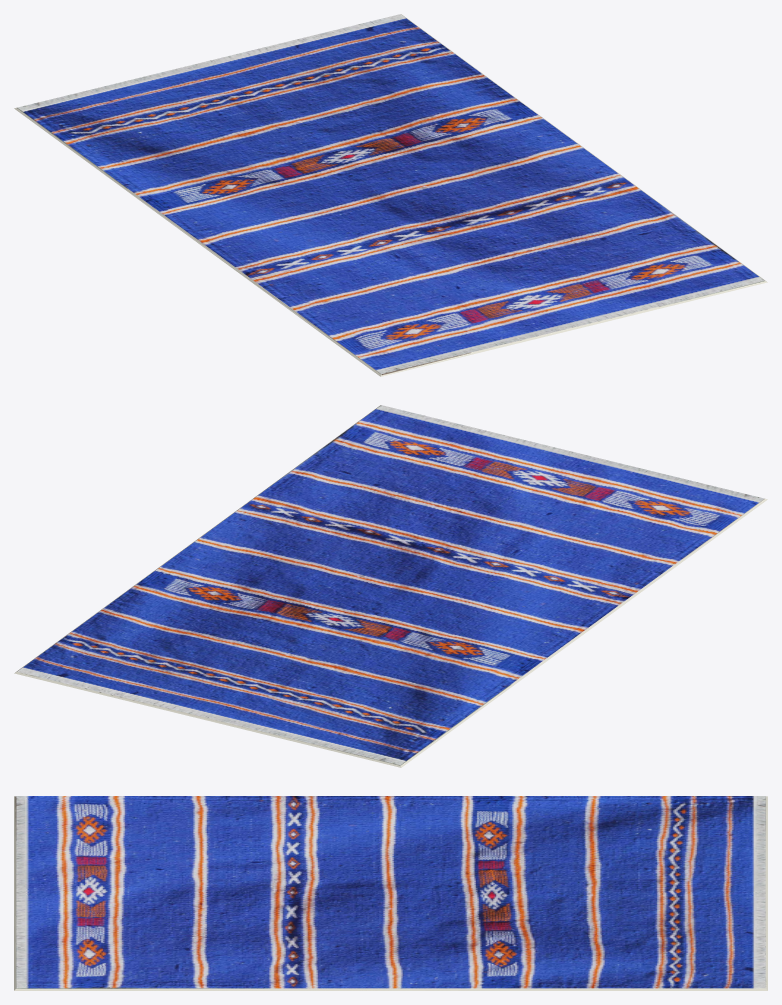
Rendered from chair1.glb.
3 renders of one model, top to bottom at view 1: azimuth 30°, elevation 25°; view 2: azimuth 150°, elevation 25°; view 3: azimuth 270°, elevation 25°, orthographic. The views are drawn at different scales.
Bounding box in the file's own units: 0.8029 × 0.00263 × 1.32.
Materials: 2 (2 with a texture image).
